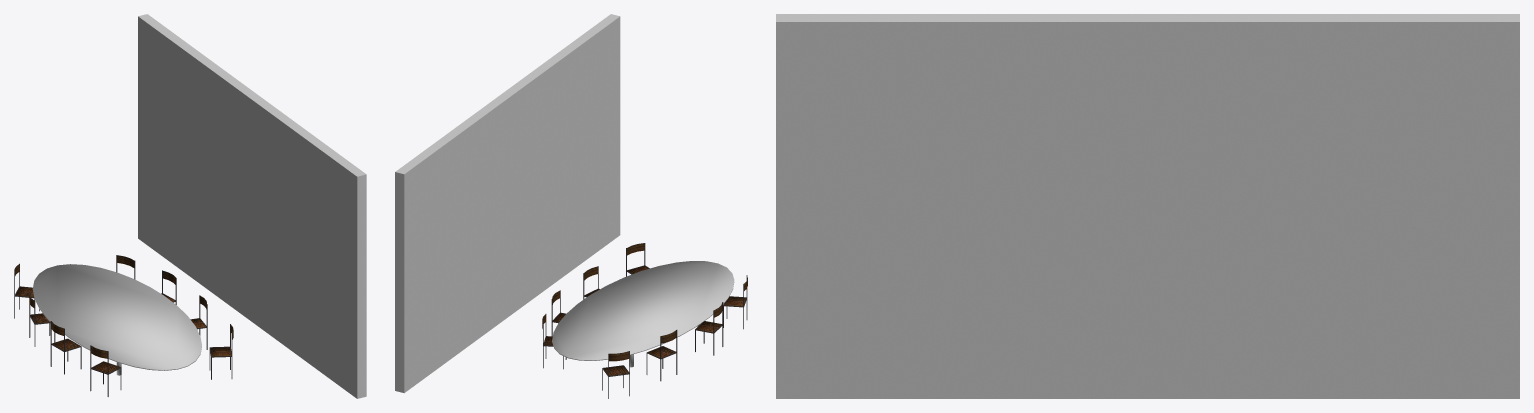
Rendered from salle_reu01.obj.
3 renders of one model, left to right at view 1: azimuth 30°, elevation 25°; view 2: azimuth 150°, elevation 25°; view 3: azimuth 270°, elevation 25°, orthographic. The views are drawn at different scales.
Visible parts, largest first — view 1: mur_couloir.027; view 2: mur_couloir.027; view 3: mur_couloir.027.
Boxes of the visible parts, bbox=[...] form: mur_couloir.027: bbox=[14, 14, 366, 398]; mur_couloir.027: bbox=[395, 14, 747, 398]; mur_couloir.027: bbox=[776, 14, 1519, 398].
Size of the model in its own units: 11.19 by 11.26 by 20.13.
4 materials, 3 textured.
